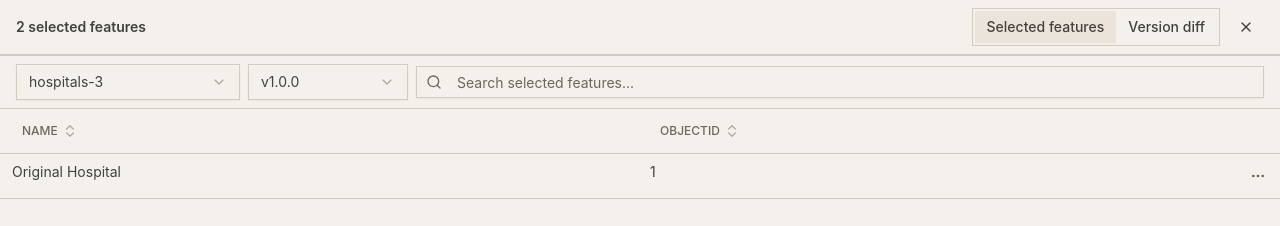
Scenario: FeatureTablePanel › allows selecting which version appears in each side-by-side table
Step 1. Click the button "Version diff" → [1167, 27], box [1116,11,1217,43]
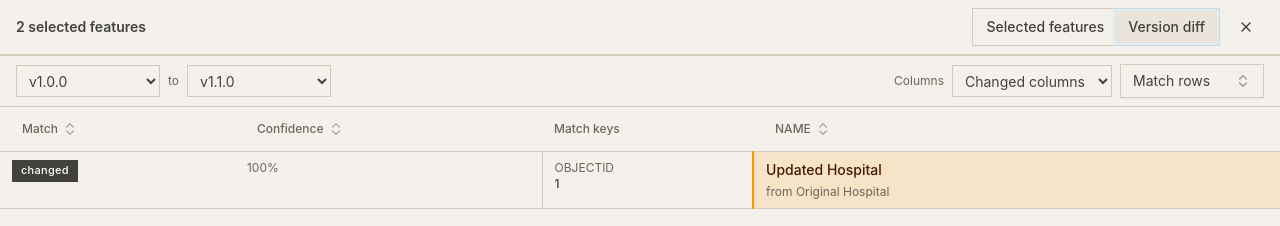
Step 2. Select "v1.1.0" in the dropdown named "Left version" → [88, 81], box [16,65,160,97]
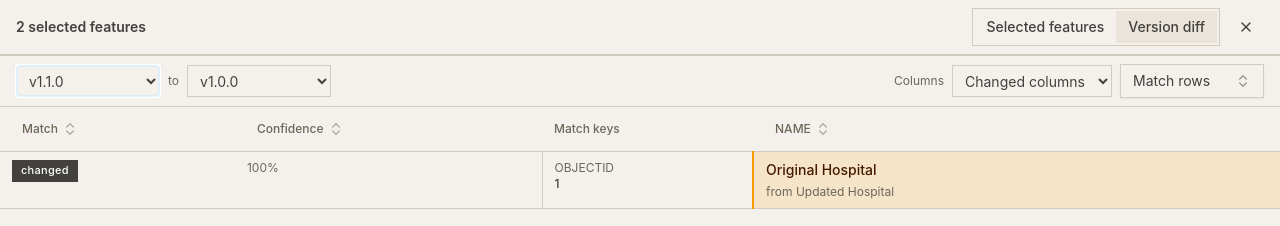
Now the dropdown named "Right version" shows "v1.0.0", box [187,65,331,97]
